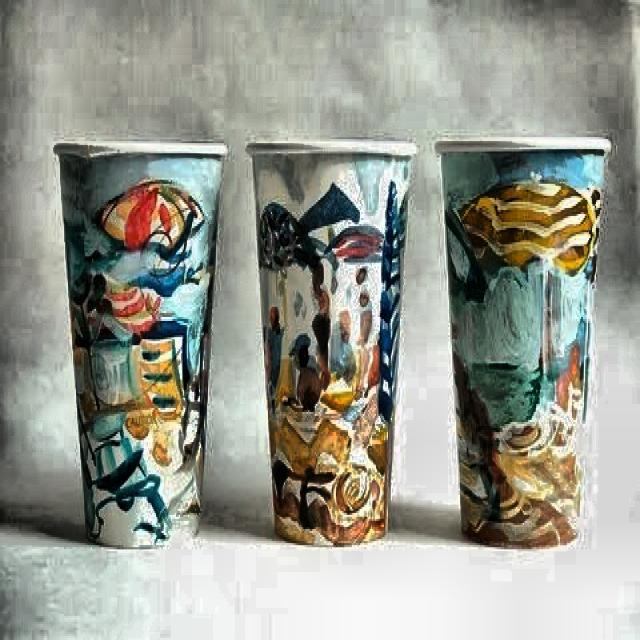Cup: (45, 126, 234, 554), (433, 128, 613, 561), (242, 128, 412, 555)
